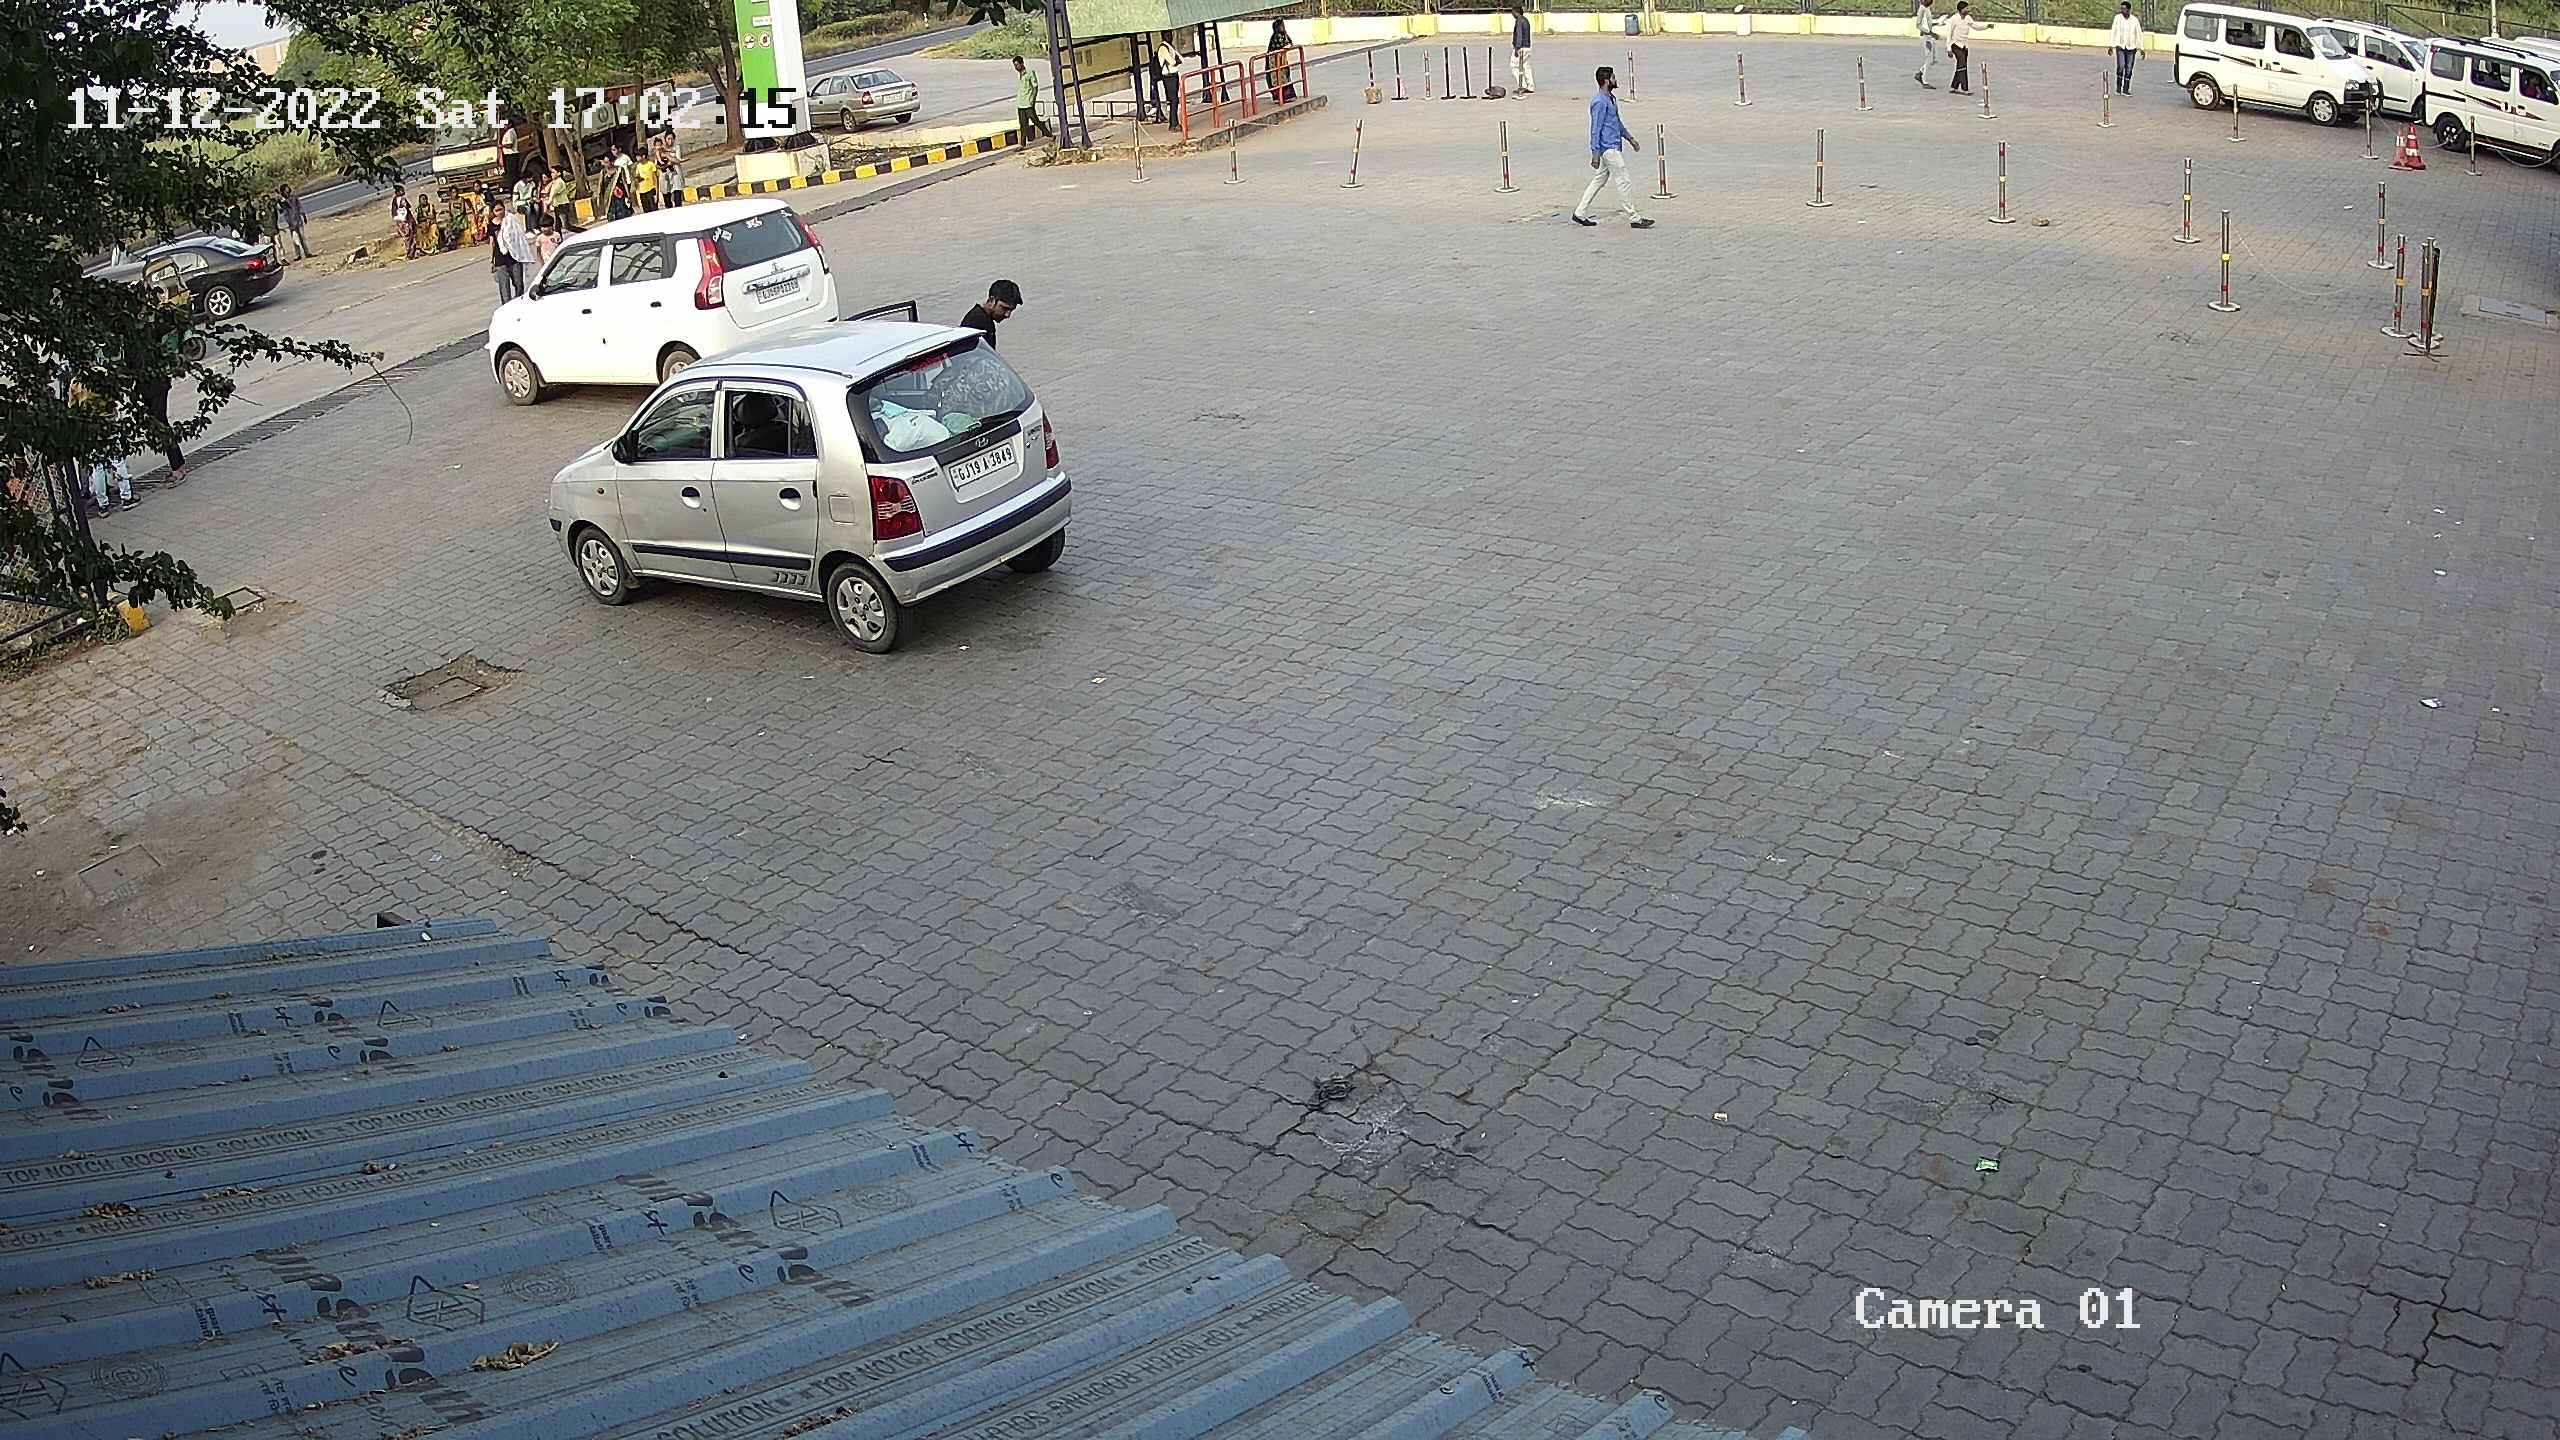Auto: (49, 248, 222, 382)
Car: (542, 292, 1080, 658), (475, 186, 842, 411), (2164, 2, 2388, 125), (2416, 18, 2556, 171), (95, 230, 288, 332), (2310, 11, 2442, 127), (795, 53, 927, 139), (2477, 23, 2556, 83)
HMV: (413, 60, 556, 223)
